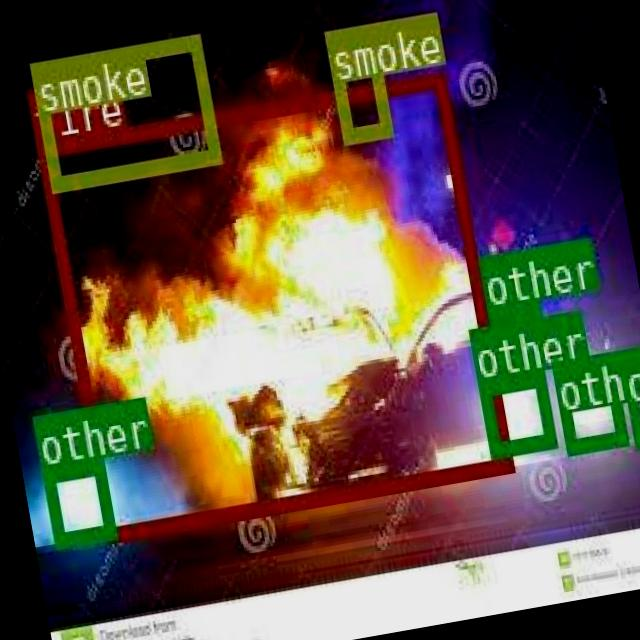fire: (33, 69, 510, 539)
smoke: (27, 32, 219, 188), (322, 21, 391, 141)
